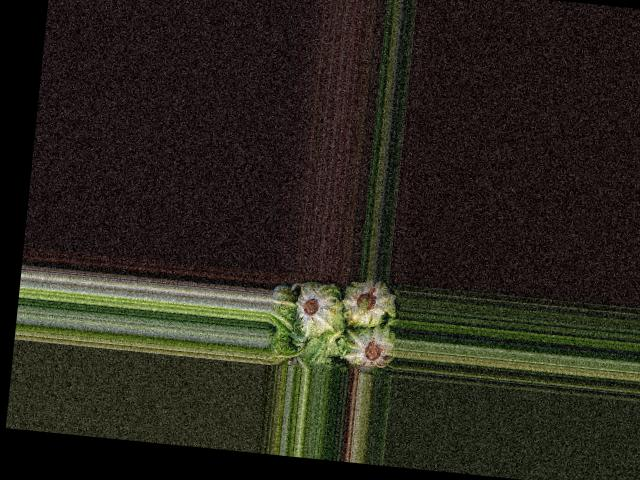lettuce: (342, 322, 396, 371)
